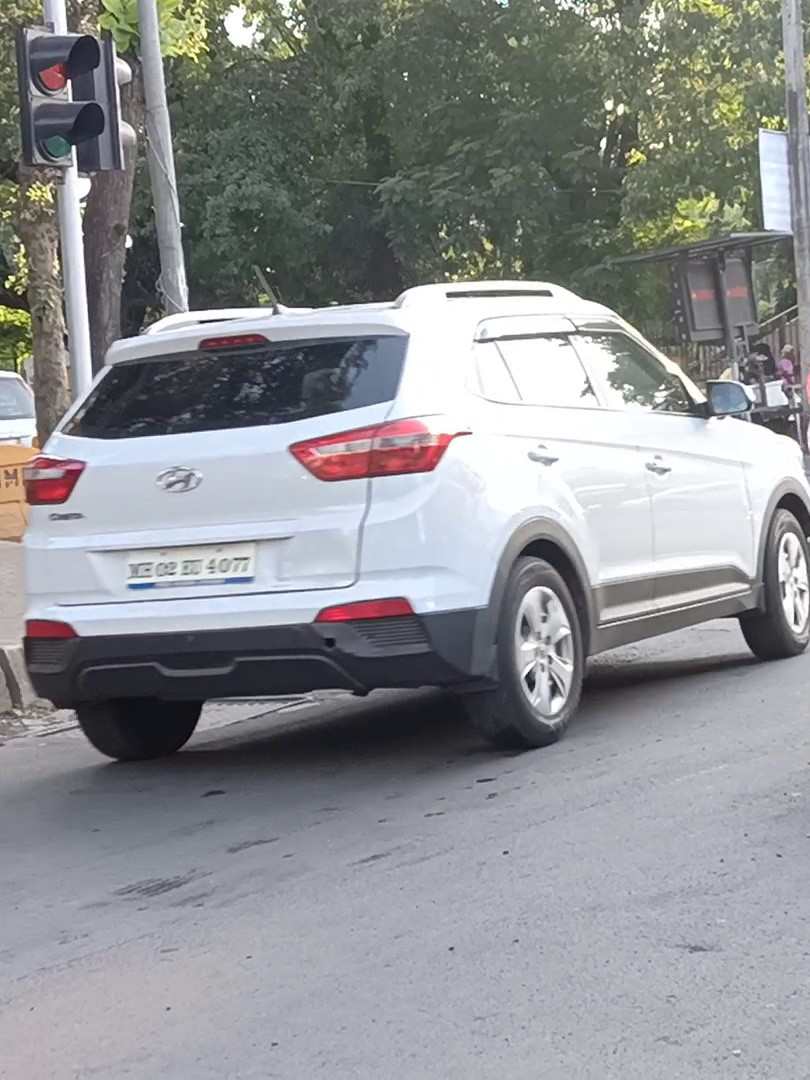MH02EU4077: (124, 542, 254, 581)
